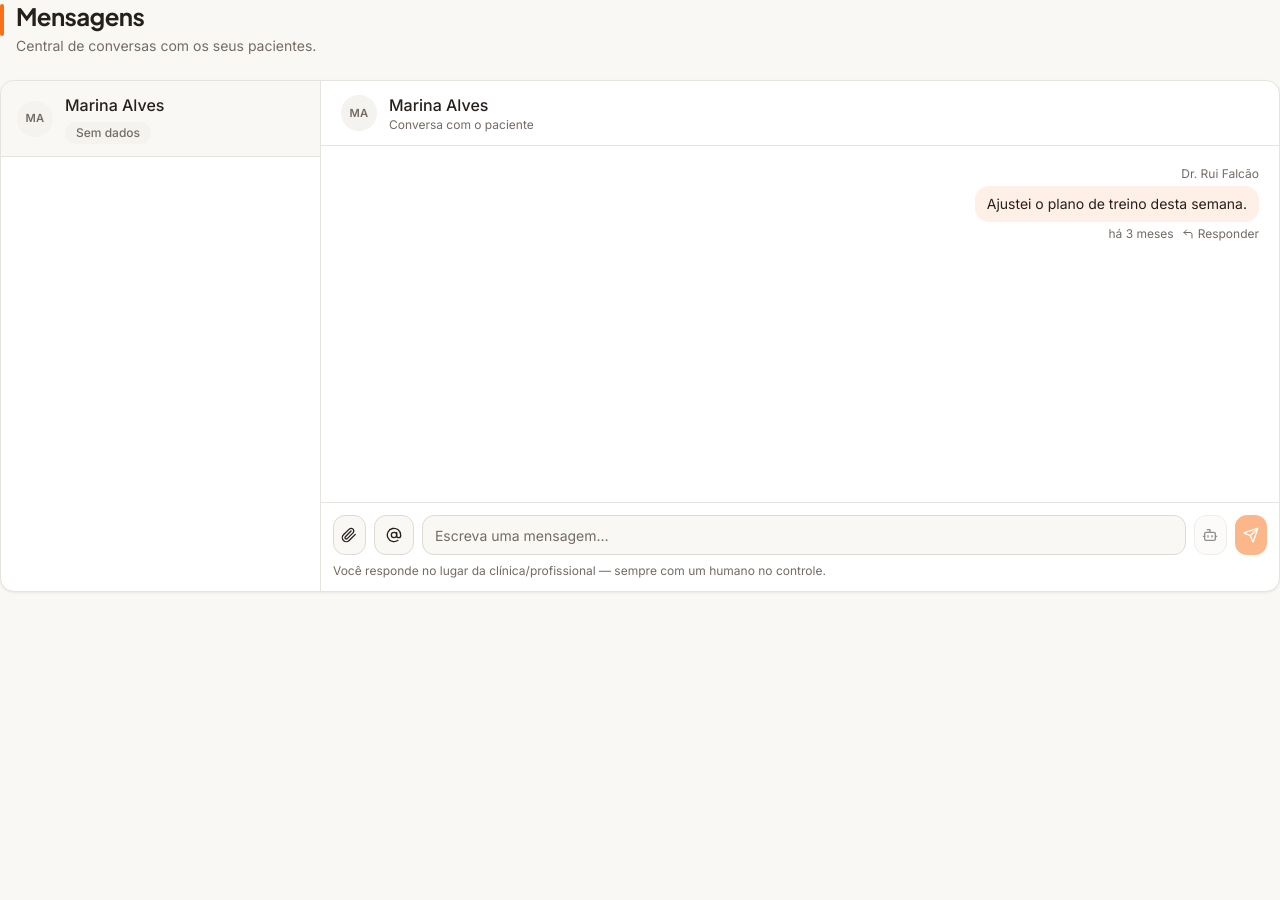
it: MessagesPage — o seletor de @ e a bolha, no MESMO render › o seletor NÃO oferece quem foi desativado
This screenshot has width=1280, height=900.
Click the button named "Marcar um profissional": (394, 535) left=374, top=515, right=414, bottom=555
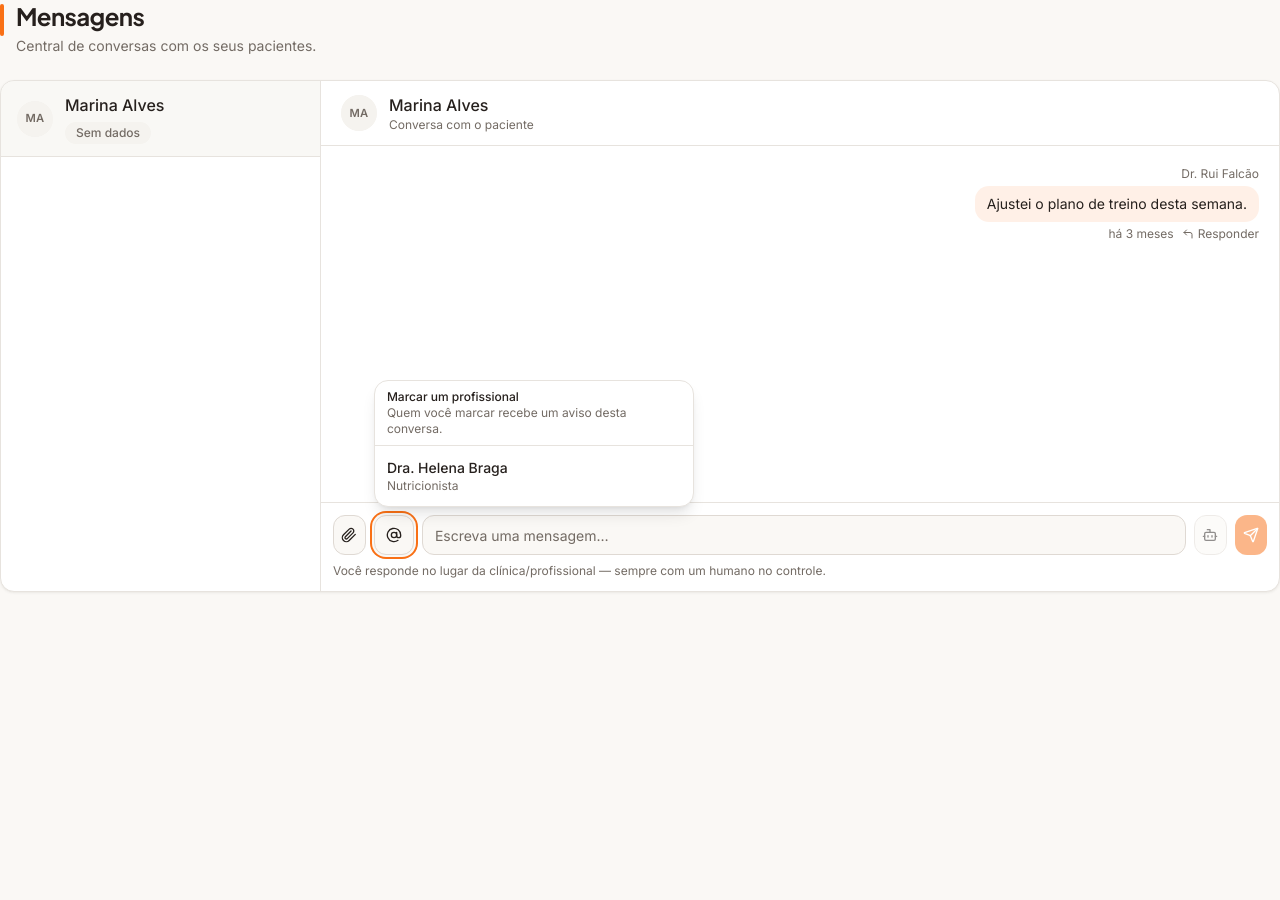
Expected: the text "Dra. Helena Braga" is shown, left=387, top=458, right=508, bottom=478
